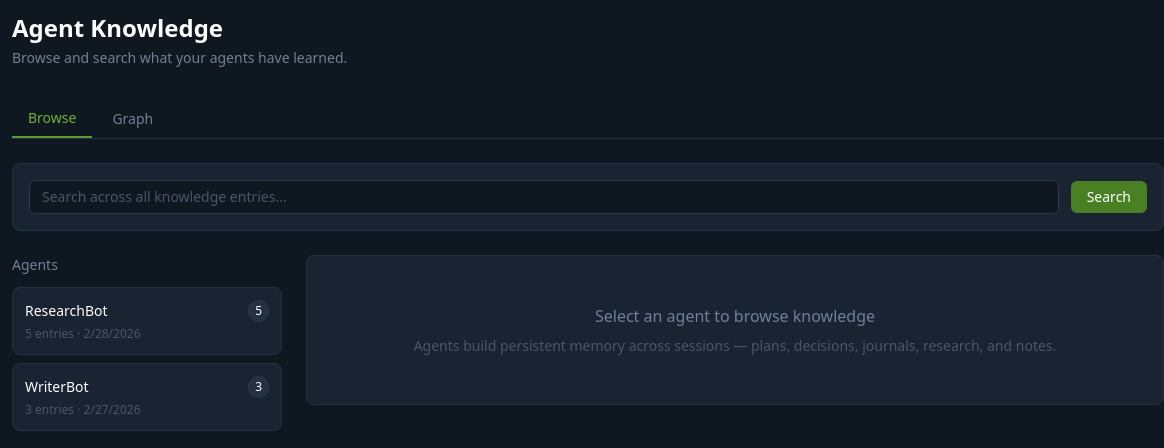
Test: KnowledgeClient › clears search and returns to browse view
Expected: the text "ResearchBot" is shown, [25, 301, 108, 321]
Type "setup" into the field with placeholder "Search across all knowledge entries..." at [544, 197], box [29, 180, 1059, 214]
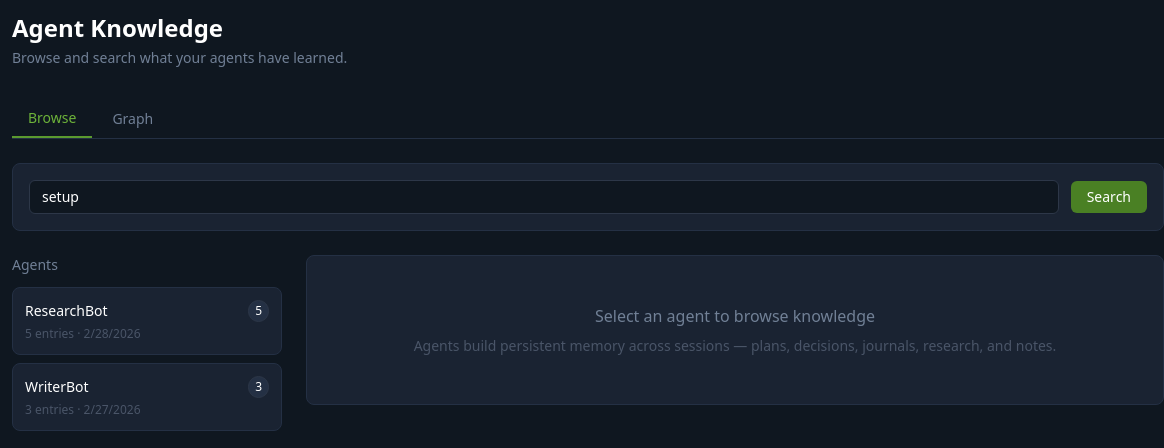
Click the button "Search" at [1109, 197], box [1071, 181, 1147, 213]
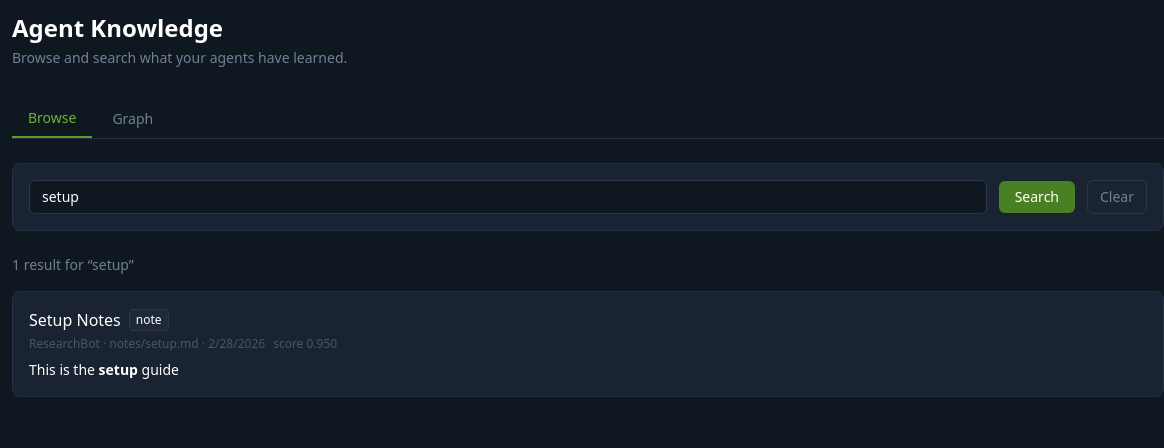
Now the text "1 result for “setup”" is shown, box [12, 255, 134, 274]
Click the button "Clear" at [1117, 197], box [1087, 180, 1147, 214]
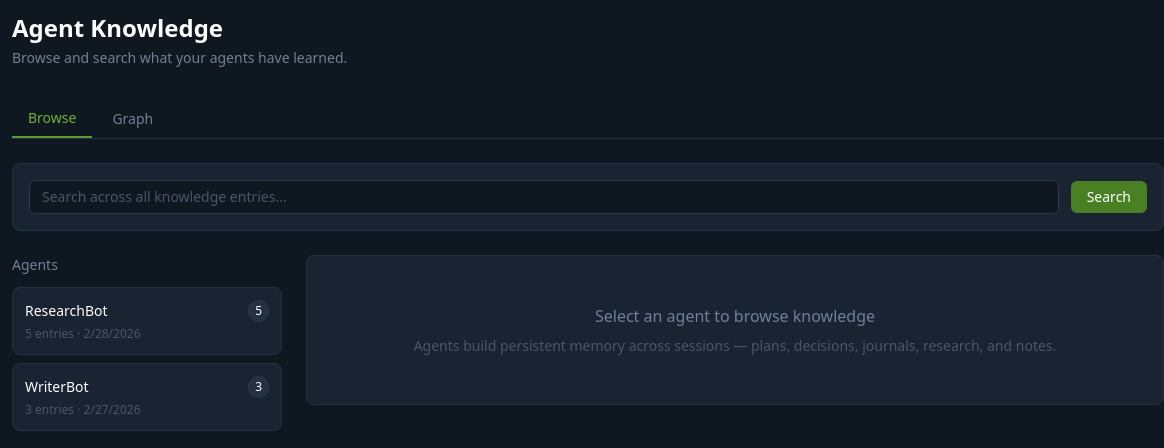
Now the text "Select an agent to browse knowledge" is shown, box [595, 305, 875, 327]
